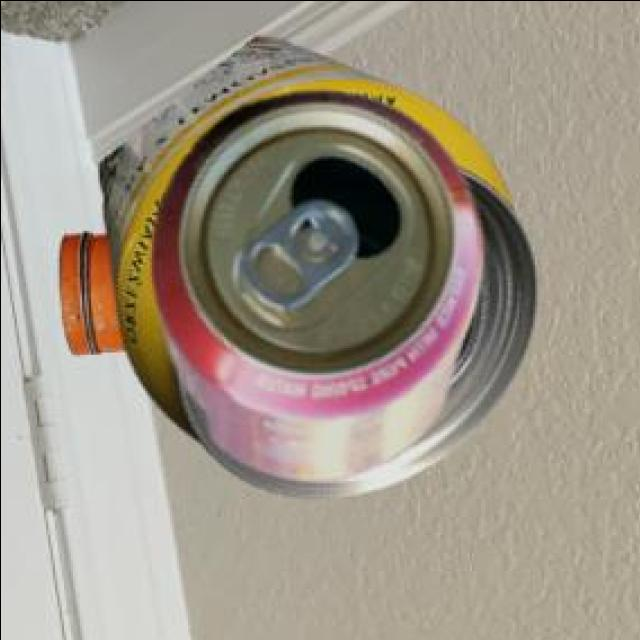logam: (96, 39, 533, 499), (148, 94, 479, 483), (55, 235, 123, 357)
